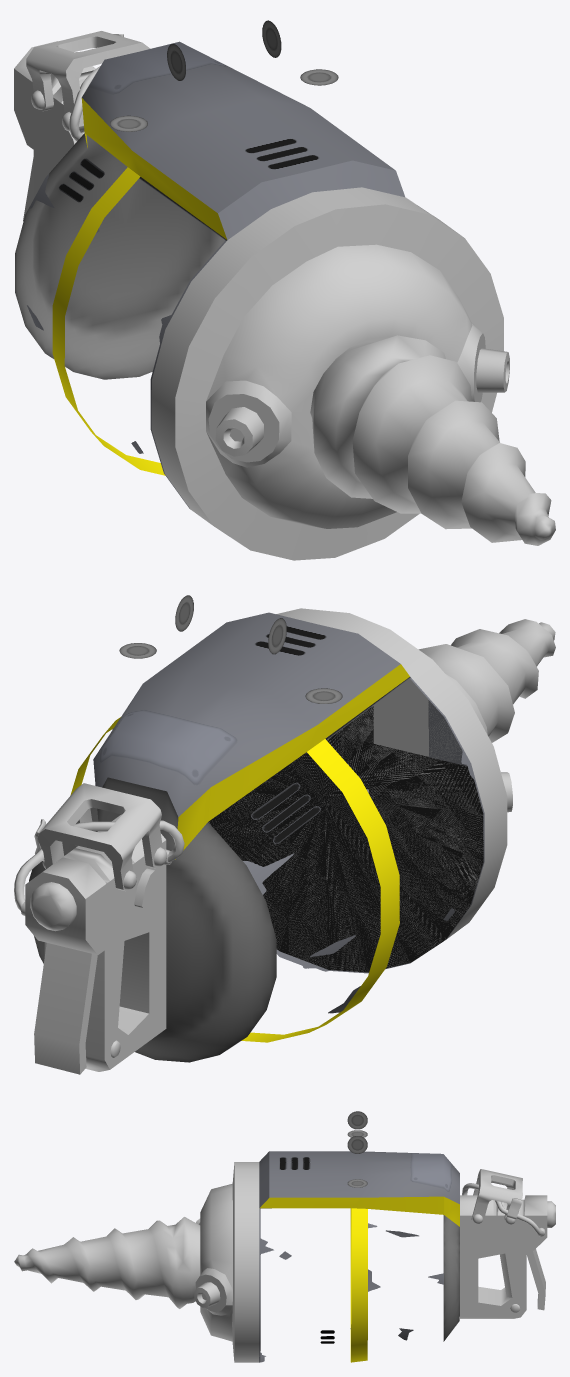
The model's file is DrillTool.fbx.
The picture shows the model from 3 angles, top to bottom: view 1: azimuth 30°, elevation 25°; view 2: azimuth 150°, elevation 25°; view 3: azimuth 270°, elevation 25°; orthographic projection. The views are drawn at different scales.
Visible parts, largest first — view 1: obj_robotparts_farmbotpart_drill.001; view 2: obj_robotparts_farmbotpart_drill.001; view 3: obj_robotparts_farmbotpart_drill.001.
Boxes of the visible parts, x1,y1,x2,y2 form: obj_robotparts_farmbotpart_drill.001: [14, 20, 555, 560]; obj_robotparts_farmbotpart_drill.001: [14, 595, 555, 1074]; obj_robotparts_farmbotpart_drill.001: [14, 1111, 555, 1362].
Bounding box in the file's own units: 1.73 × 2.23 × 4.67.
